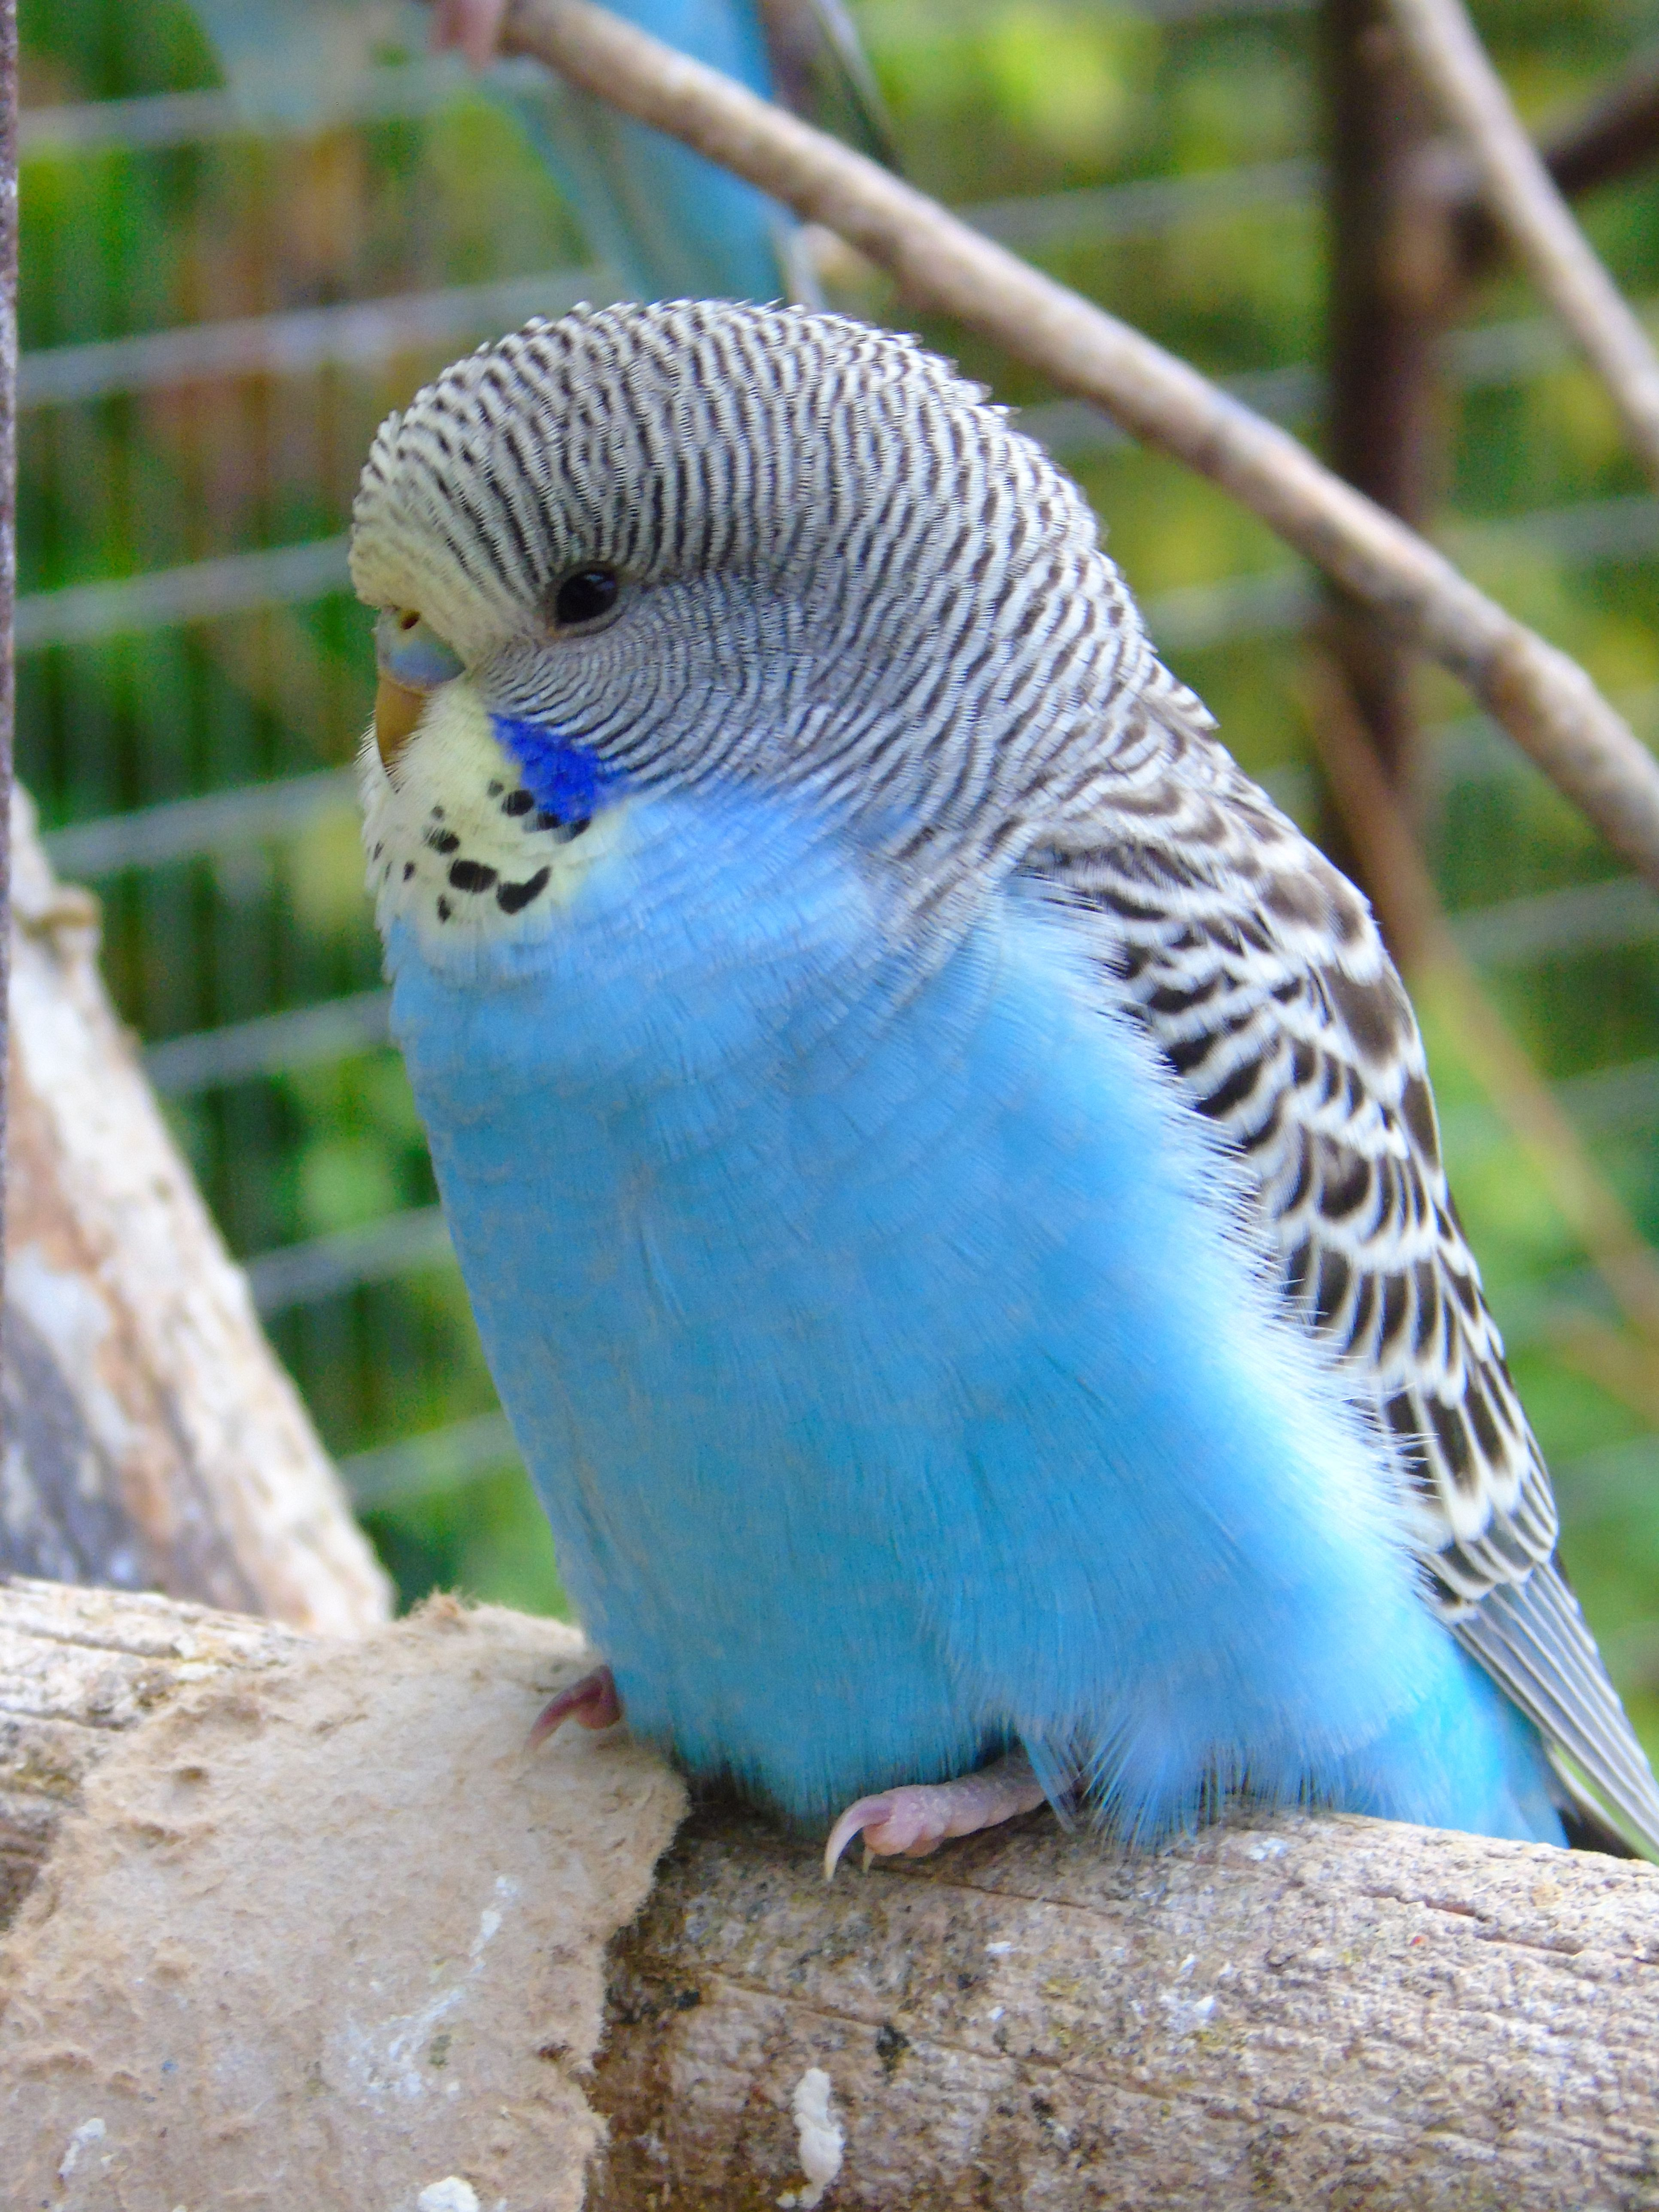budgie: (321, 287, 1638, 1885)
